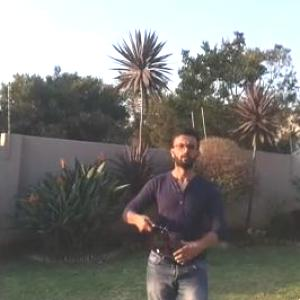follow: (117, 119, 234, 299)
